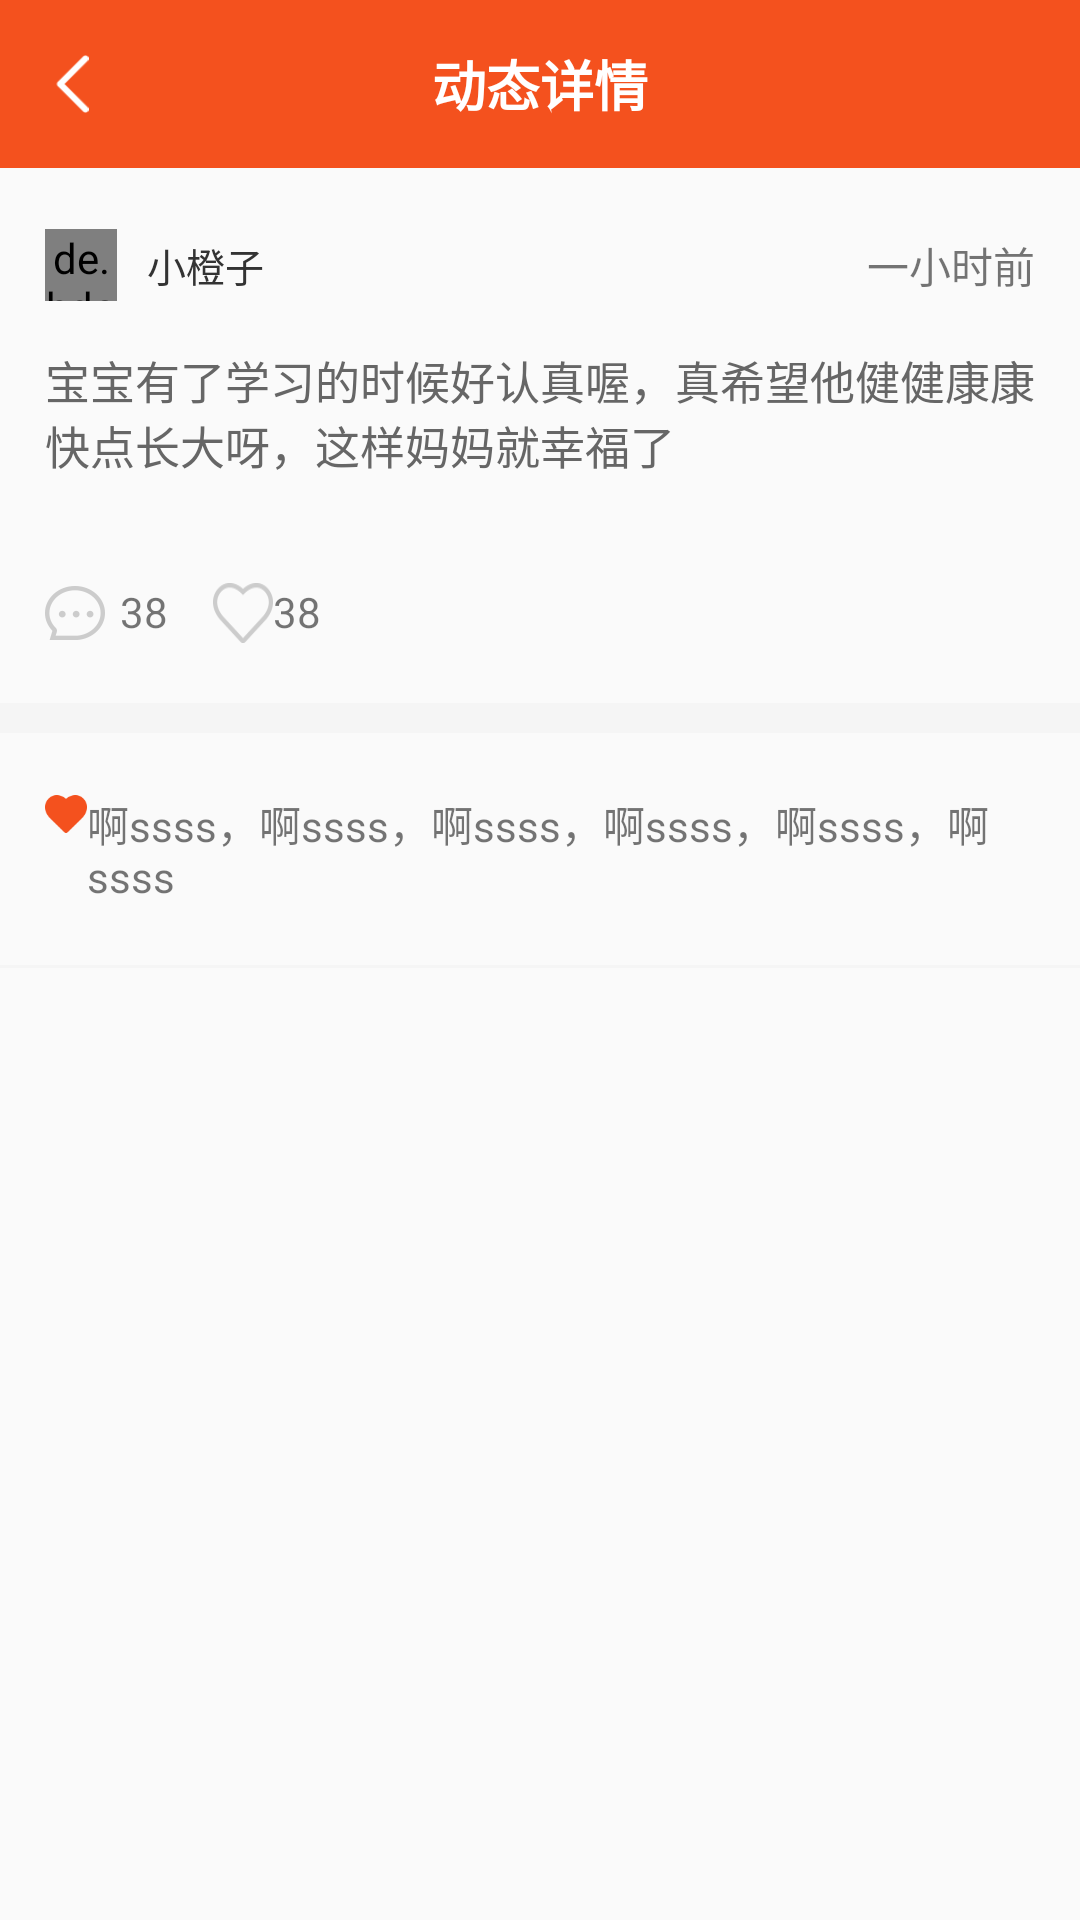

Named icons in this screenshot (1080×1920) and their centers, [x,y]:
fanhui: [72,84]
love: [243,613]
